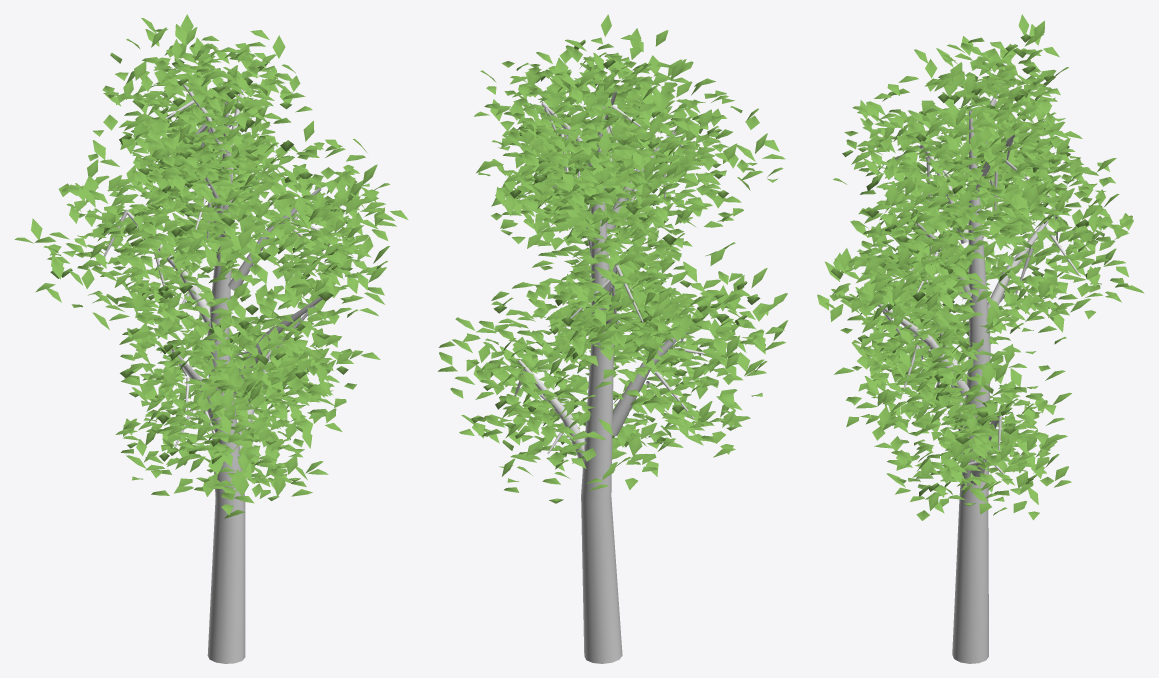
File: 04_Hus_Agaci.fbx
The picture shows the model from 3 angles, left to right: view 1: azimuth 30°, elevation 25°; view 2: azimuth 150°, elevation 25°; view 3: azimuth 270°, elevation 25°; orthographic projection. The views are drawn at different scales.
Parts seen in each view (by area): view 1: 04_Hus_Agaci; view 2: 04_Hus_Agaci; view 3: 04_Hus_Agaci.
Part boxes in pixels (bbox=[...]): 04_Hus_Agaci: bbox=[14, 14, 408, 663]; 04_Hus_Agaci: bbox=[438, 14, 788, 663]; 04_Hus_Agaci: bbox=[817, 14, 1144, 663].
Bounding box in the file's own units: 414 × 878 × 425.
